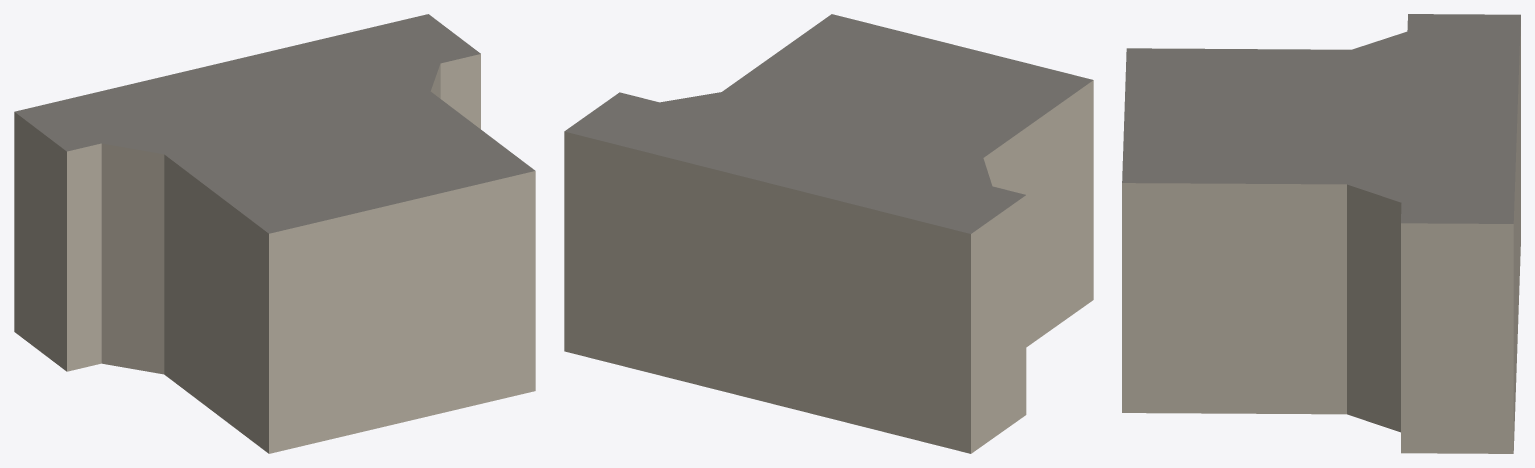
3 renders of one model, left to right at view 1: azimuth 30°, elevation 25°; view 2: azimuth 150°, elevation 25°; view 3: azimuth 270°, elevation 25°, orthographic. The views are drawn at different scales.
Visible parts, largest first — view 1: HP-w859488778; view 2: HP-w859488778; view 3: HP-w859488778.
Boxes of the visible parts, x1,y1,x2,y2 form: HP-w859488778: (14, 14, 535, 453); HP-w859488778: (564, 14, 1093, 453); HP-w859488778: (1122, 14, 1520, 453).
Bounding box in the file's own units: 35.26 × 18 × 28.29.
